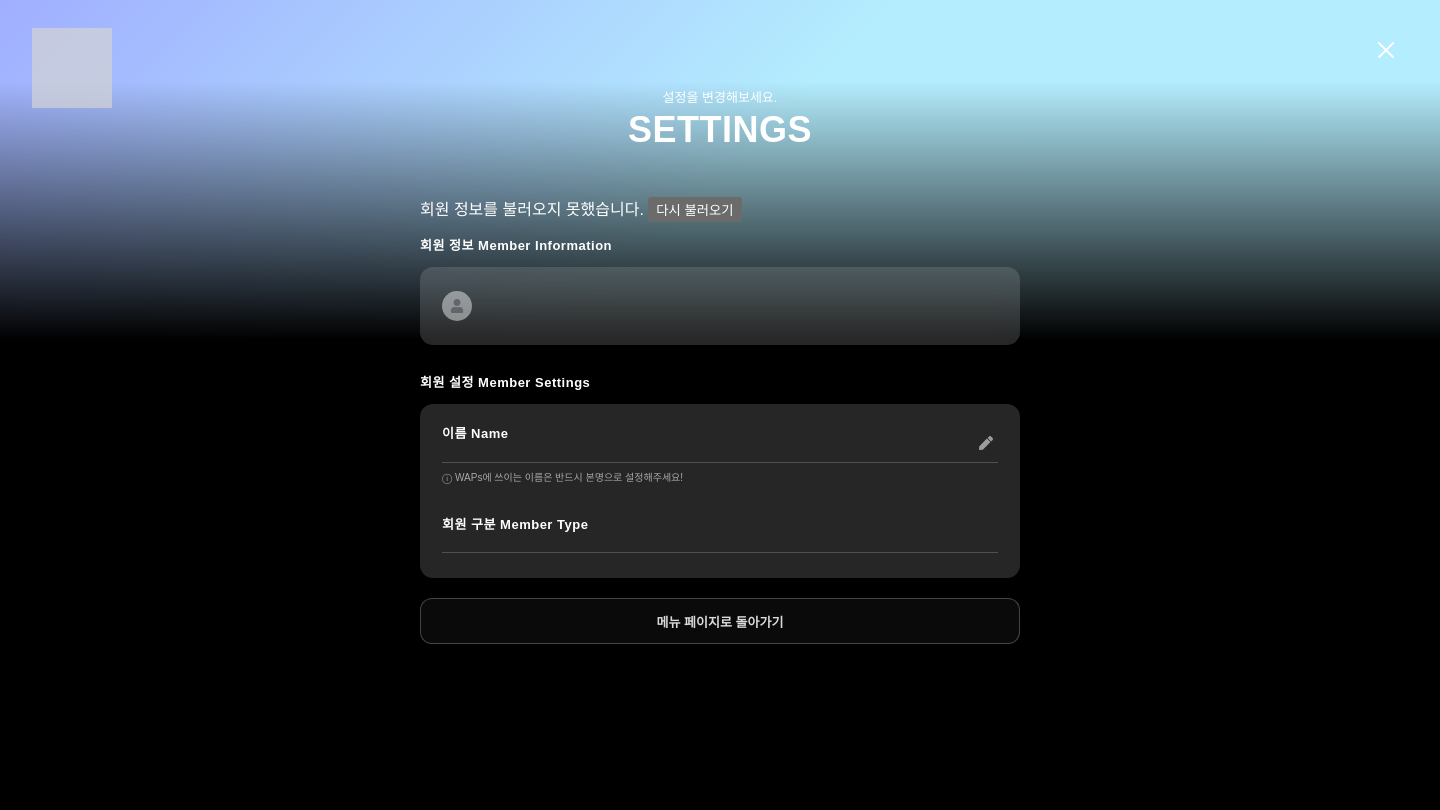
failed profile loading prevents edits and can be retried
Check: the message shows "회원 정보를 불러오지 못했습니다.", box x1=420 y1=201 x2=644 y2=218
Check: the button named "이름 변경" is disabled, box x1=973 y1=431 x2=998 y2=456
Click the button "다시 불러오기". click: {"x": 695, "y": 209}
box: x1=648 y1=197 x2=742 y2=222
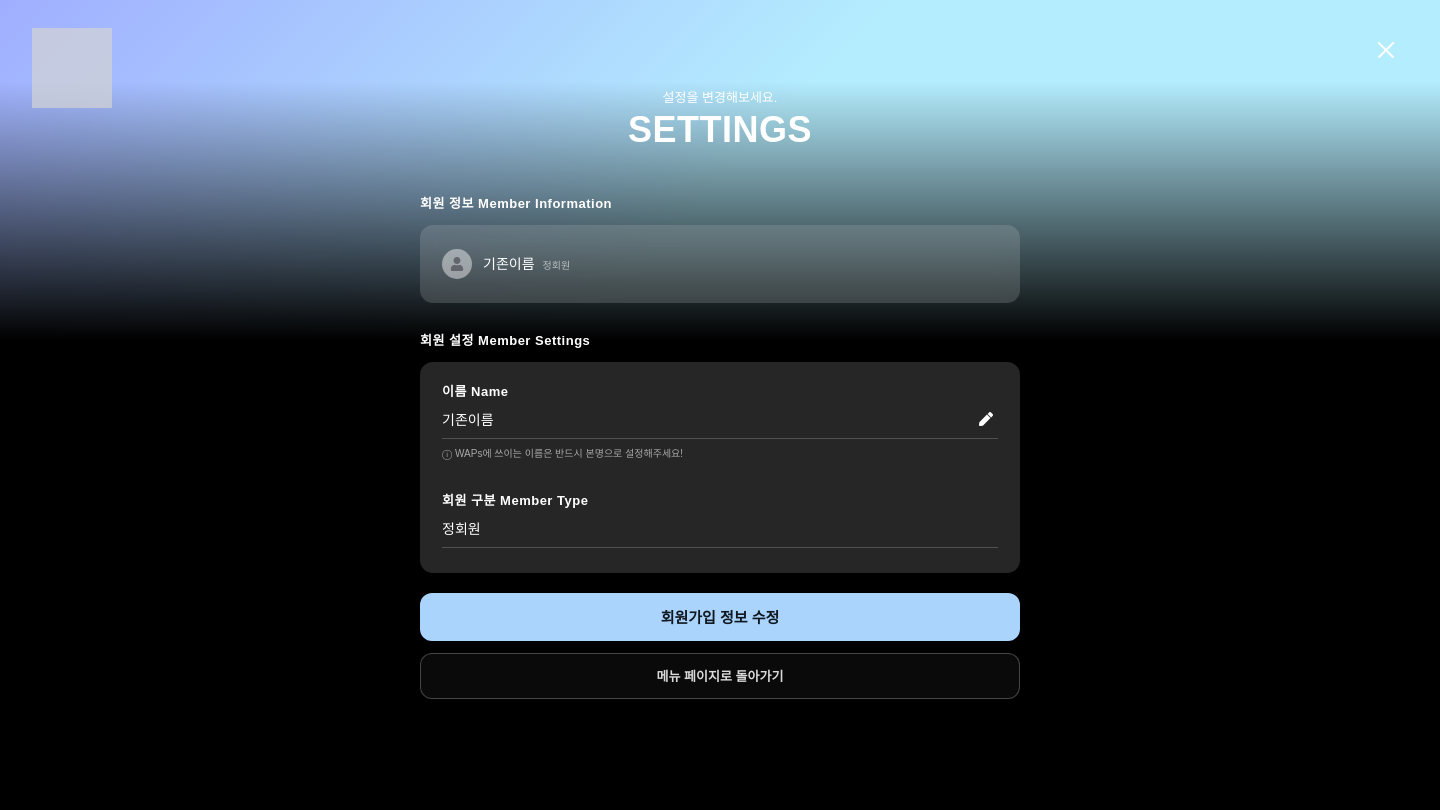
Check: the message "회원 정보를 불러오지 못했습니다. 다시 불러오기" is gone
Check: the button named "이름 변경" is enabled, box x1=973 y1=407 x2=998 y2=432
